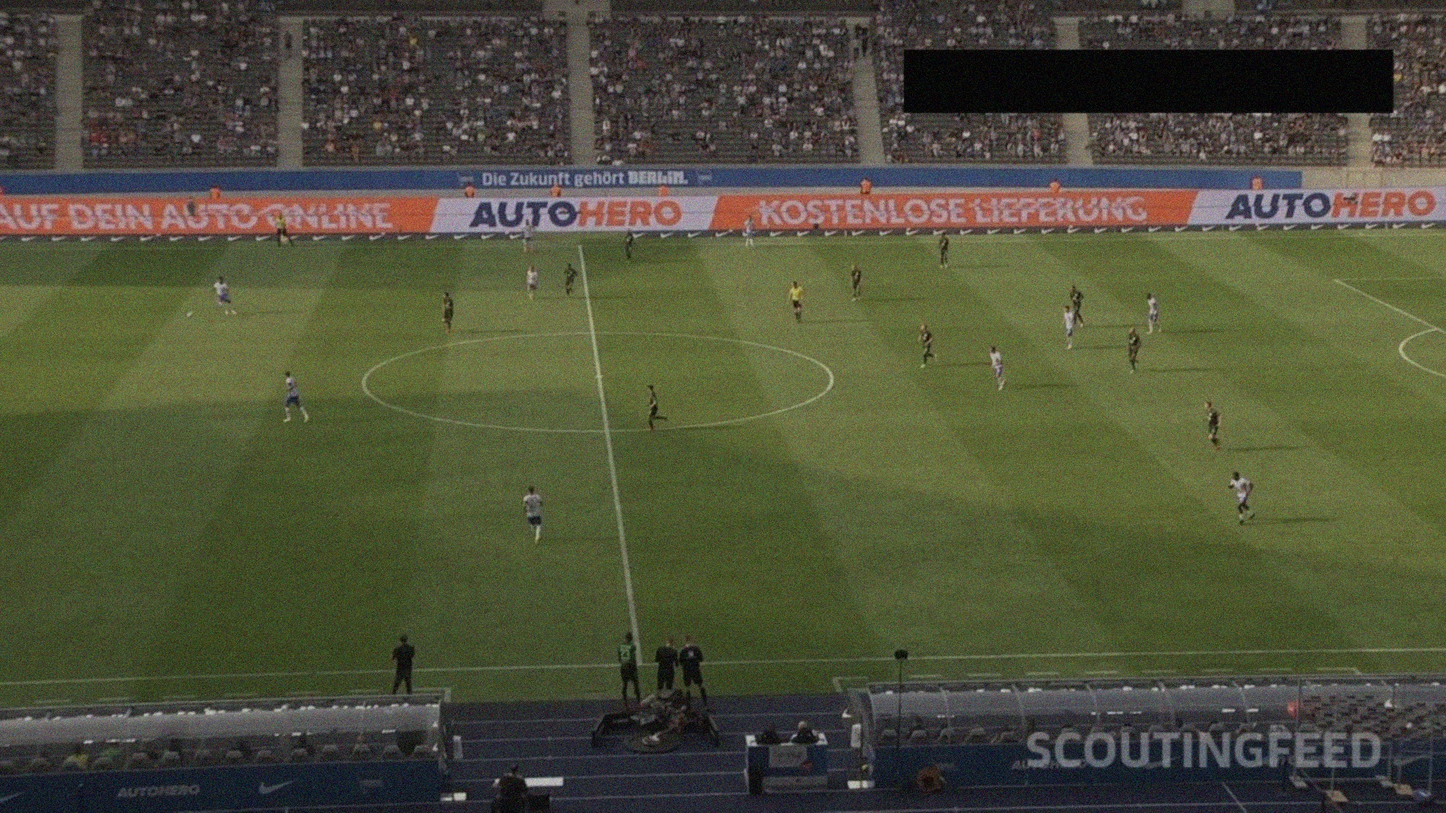ball: (185, 310, 194, 319)
player: (1228, 470, 1257, 526), (281, 370, 310, 425), (522, 485, 546, 549), (643, 383, 668, 432), (1201, 399, 1224, 452), (210, 276, 238, 316), (917, 321, 938, 369), (1066, 285, 1088, 330), (985, 343, 1004, 393), (1144, 289, 1163, 336), (1126, 327, 1143, 375), (847, 262, 865, 303), (1059, 306, 1075, 350), (439, 291, 455, 333), (521, 220, 539, 254), (562, 262, 578, 299), (525, 264, 540, 302), (623, 230, 637, 267), (937, 232, 951, 269), (744, 216, 758, 250)
referee: (785, 280, 805, 323), (273, 214, 294, 248)
